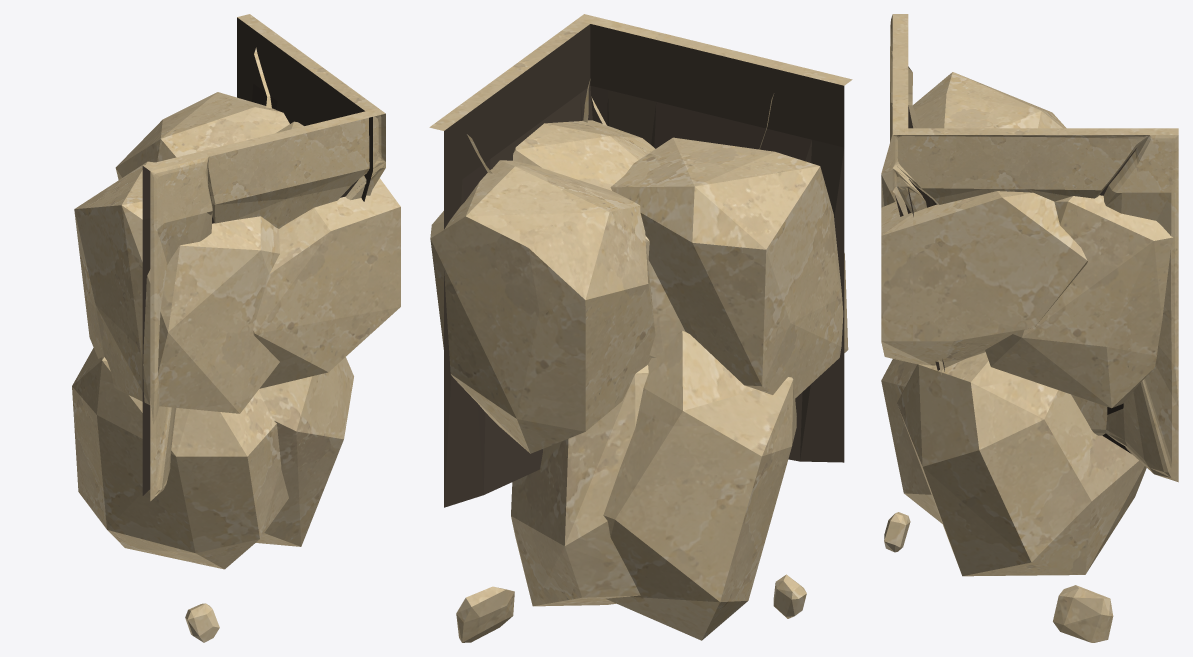
File: ground_bottom_square_corner_08.glb
3 views of the same model, side by side, from view 1: azimuth 30°, elevation 25°; view 2: azimuth 150°, elevation 25°; view 3: azimuth 270°, elevation 25° (orthographic). The views are drawn at different scales.
Parts seen in each view (by area): view 1: GroundBottomSquareCorner08_Body; view 2: GroundBottomSquareCorner08_Body; view 3: GroundBottomSquareCorner08_Body.
Part boxes in pixels (left/top/right/bottom): GroundBottomSquareCorner08_Body: left=72, top=14, right=400, bottom=642; GroundBottomSquareCorner08_Body: left=429, top=14, right=852, bottom=642; GroundBottomSquareCorner08_Body: left=881, top=14, right=1178, bottom=642.
Bounding box in the file's own units: 1.04 × 1.97 × 1.04.
8 materials, 7 textured.
